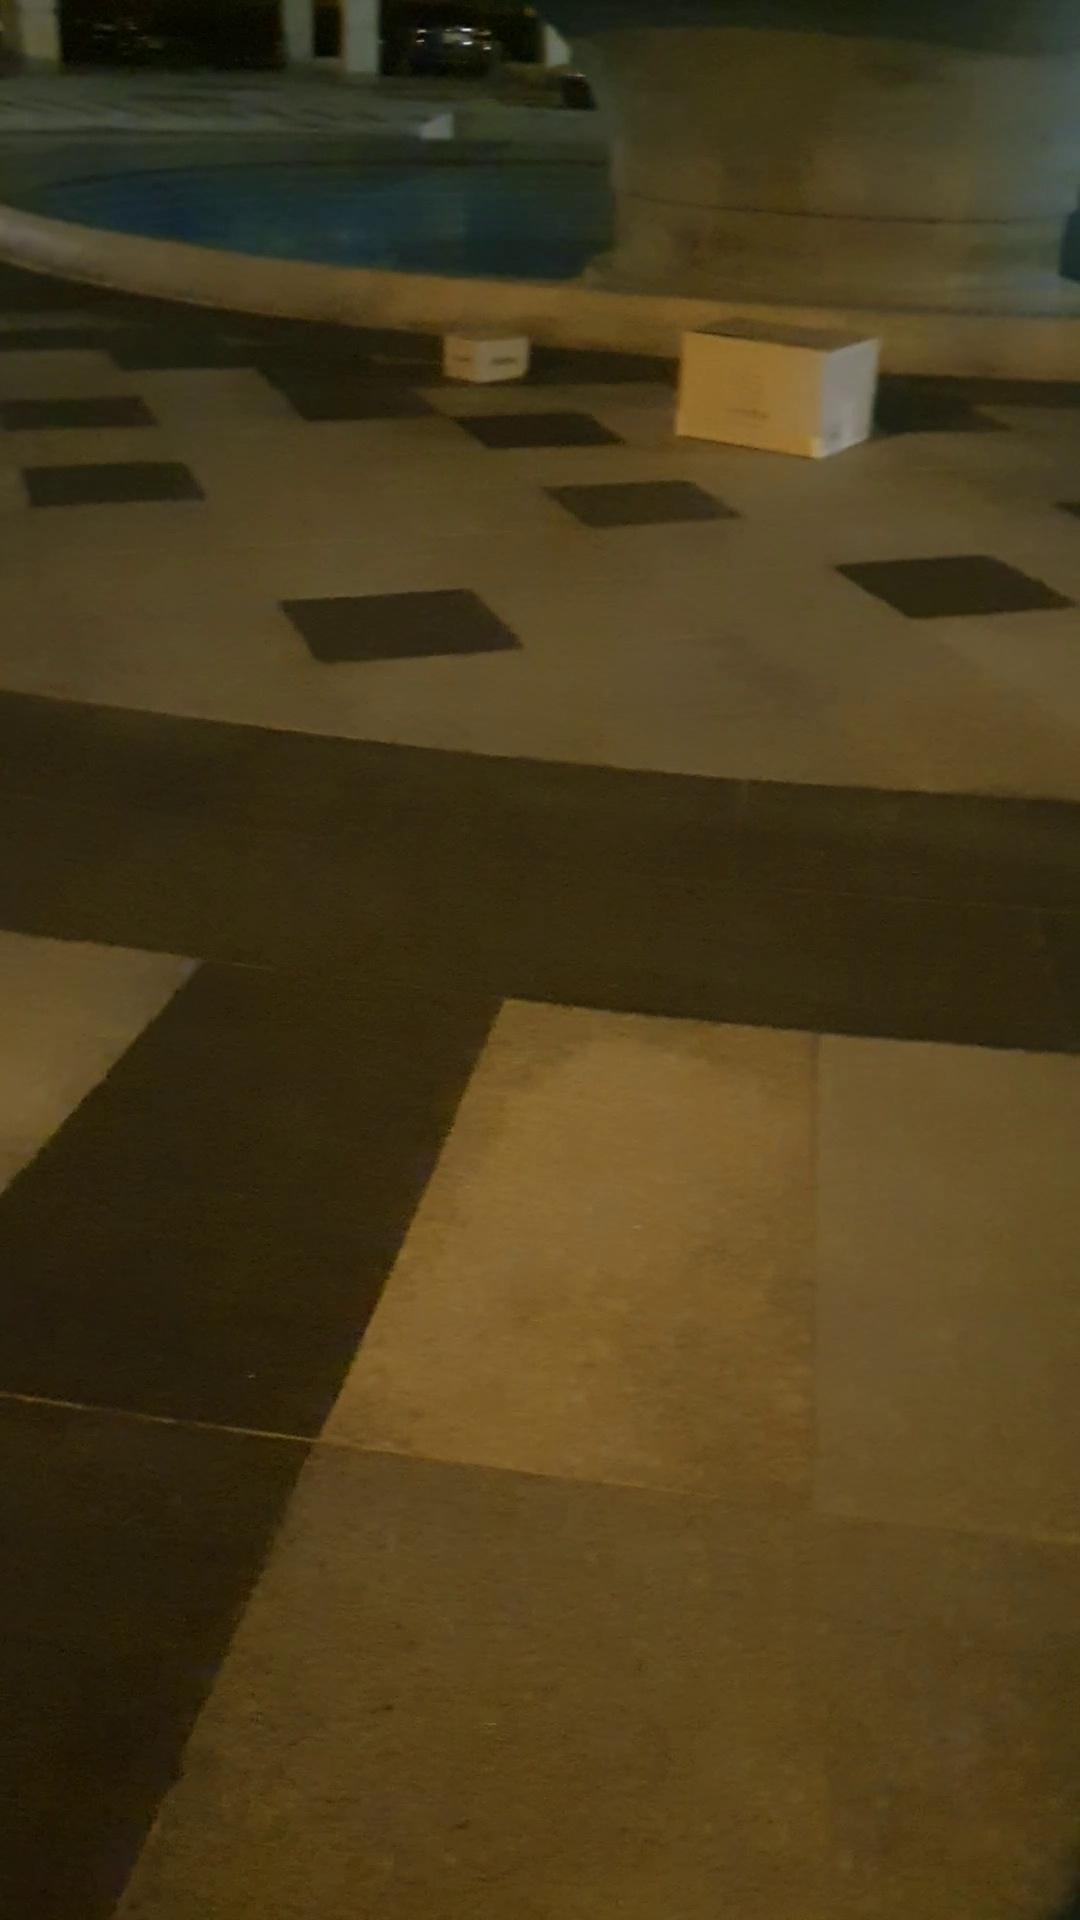Box: (671, 305, 882, 472), (426, 301, 538, 397)
